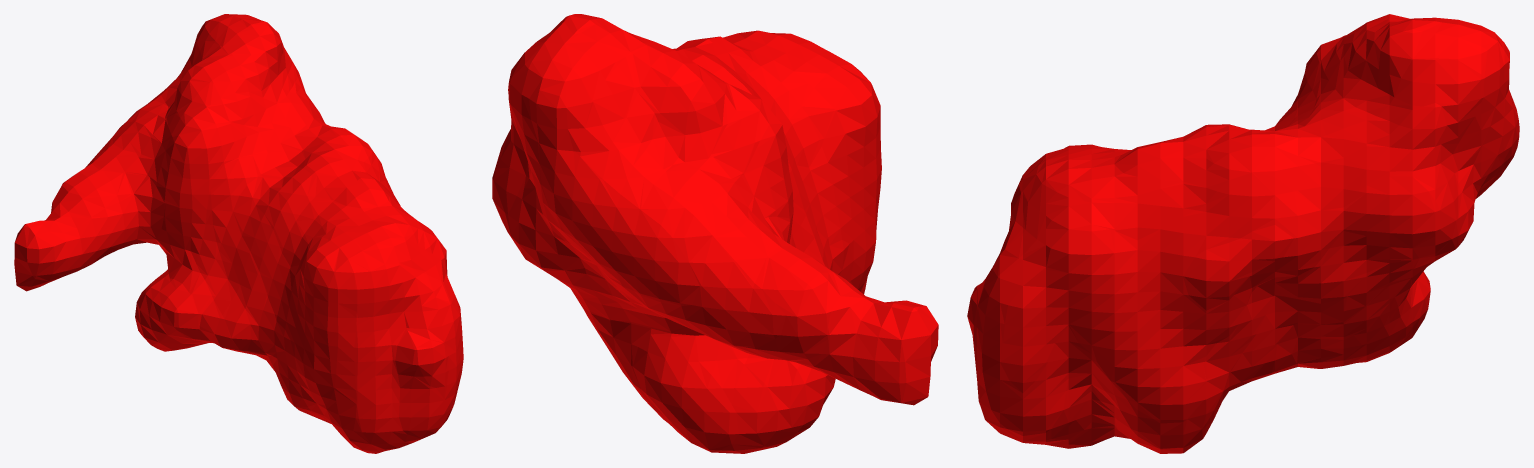
The model's file is yccA_coarse.dae.
The picture shows the model from 3 angles, left to right: view 1: azimuth 30°, elevation 25°; view 2: azimuth 150°, elevation 25°; view 3: azimuth 270°, elevation 25°; orthographic projection. The views are drawn at different scales.
Parts seen in each view (by area): view 1: yccA; view 2: yccA; view 3: yccA.
Part boxes in pixels (left/top/right/bottom): yccA: left=14, top=14, right=463, bottom=453; yccA: left=492, top=14, right=938, bottom=453; yccA: left=967, top=14, right=1519, bottom=453.
Bounding box in the file's own units: 53.65 × 53.7 × 61.96.
